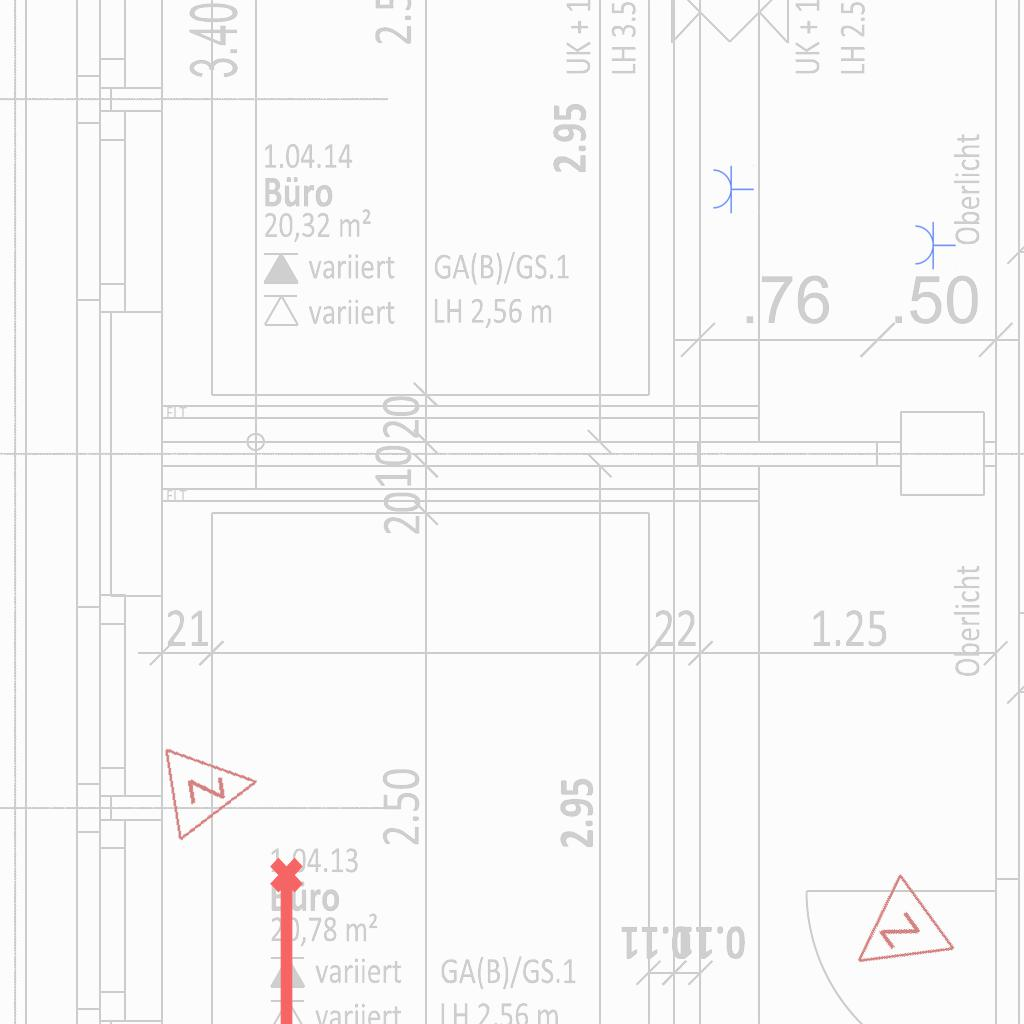ASR_Ansaugoeffnung: (266, 855, 312, 1024)
Schukosteckdose_einfach: (913, 220, 956, 270), (711, 164, 754, 214)
Zimmersignalleuchte: (824, 867, 964, 1007), (156, 730, 272, 844)
